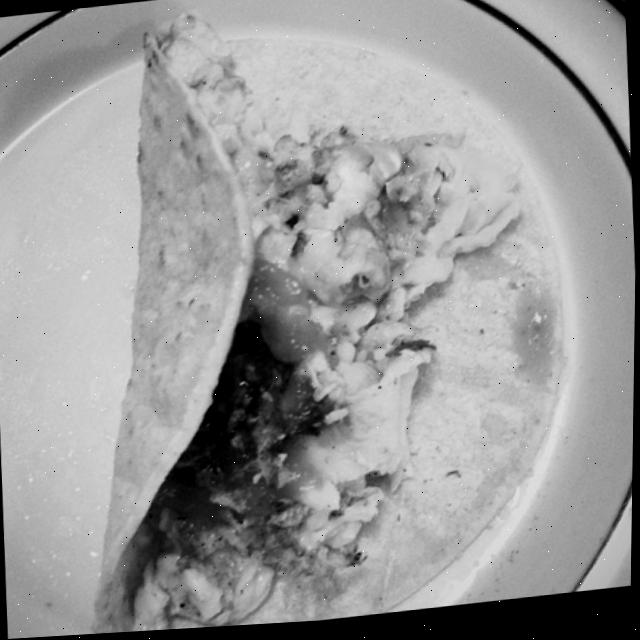面包点心: (7, 0, 626, 639)
